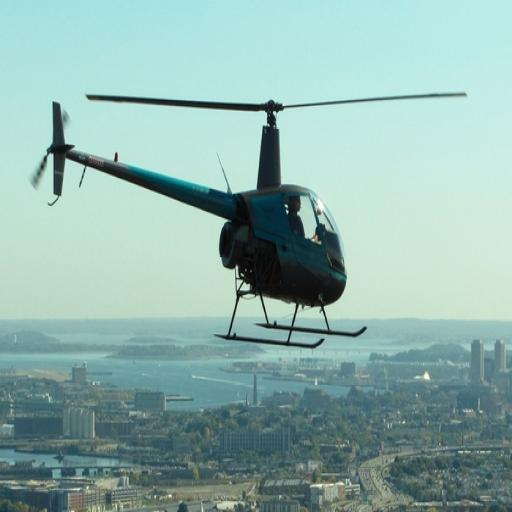helicopter: (33, 92, 468, 349)
